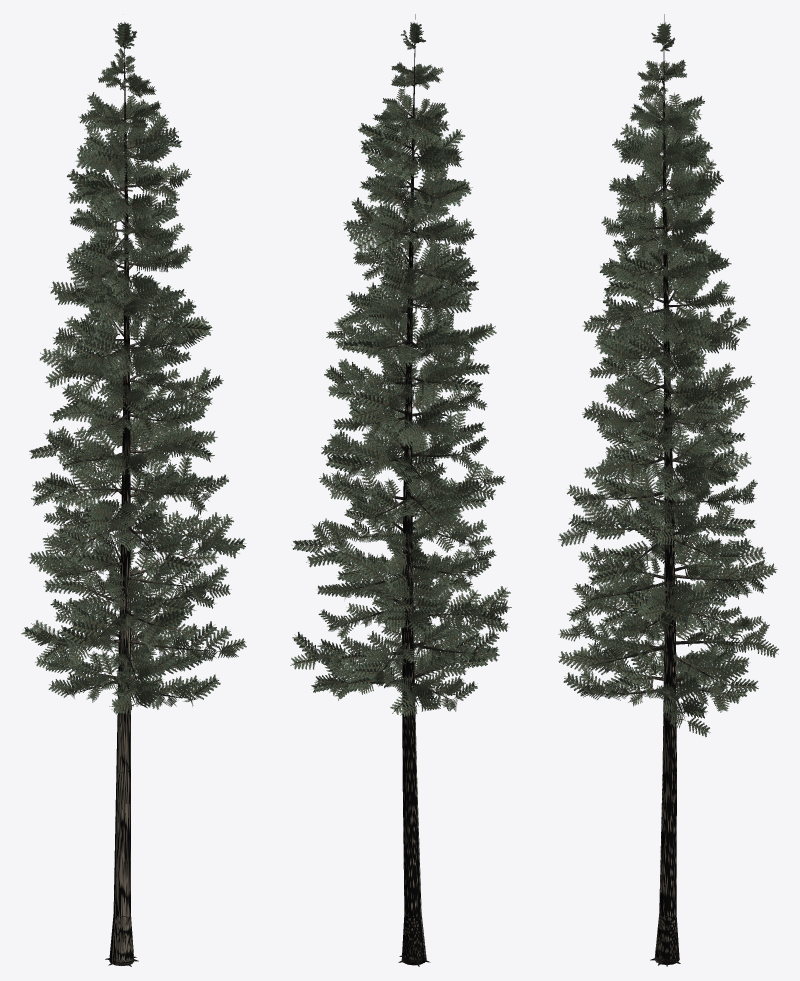
Rendered from Sitka_Mature_02_Unpruned_LOD0.fbx.
The picture shows the model from 3 angles, left to right: view 1: azimuth 30°, elevation 25°; view 2: azimuth 150°, elevation 25°; view 3: azimuth 270°, elevation 25°; orthographic projection.
Parts seen in each view (by area): view 1: Sitka_Mature_02_Unpruned_LOD0; view 2: Sitka_Mature_02_Unpruned_LOD0; view 3: Sitka_Mature_02_Unpruned_LOD0.
Boxes of the visible parts, left/top/right/bottom form: Sitka_Mature_02_Unpruned_LOD0: left=21, top=22, right=246, bottom=966; Sitka_Mature_02_Unpruned_LOD0: left=290, top=14, right=511, bottom=966; Sitka_Mature_02_Unpruned_LOD0: left=558, top=14, right=778, bottom=966.
Size of the model in its own units: 614 by 2600 by 589.
Materials: 2 (2 with a texture image).
